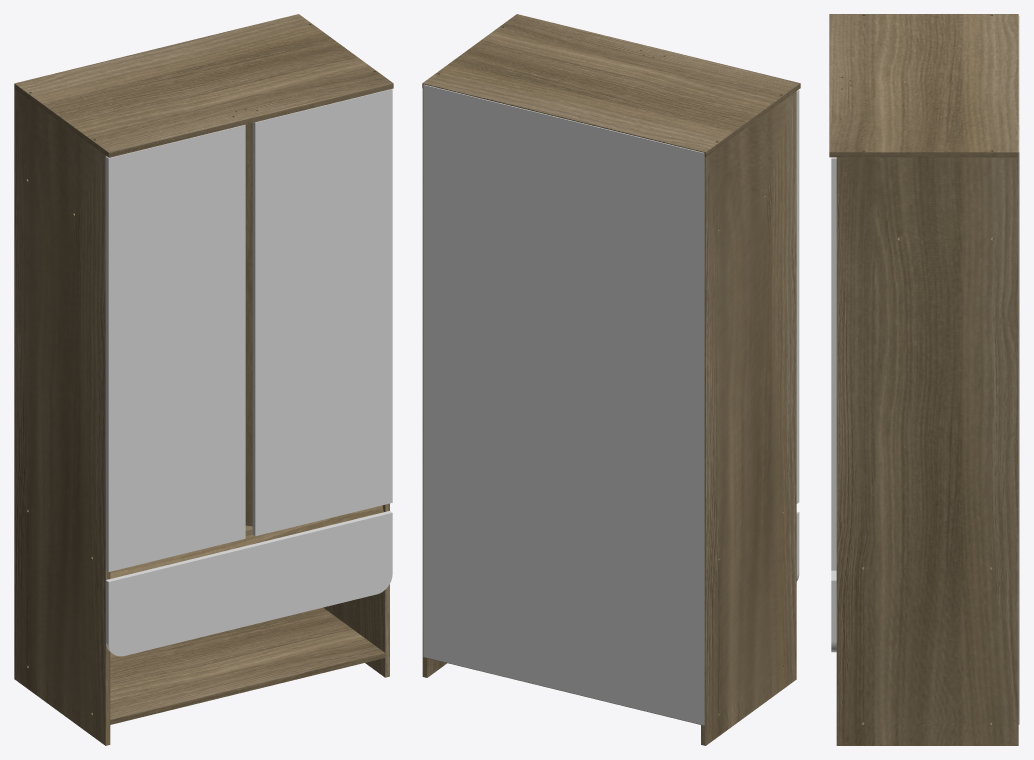
3 renders of one model, left to right at view 1: azimuth 30°, elevation 25°; view 2: azimuth 150°, elevation 25°; view 3: azimuth 270°, elevation 25°, orthographic.
Parts seen in each view (by area): view 1: A742270-COSTADOSCO; view 2: A742270-COSTADOSCO; view 3: A742270-COSTADOSCO.
Boxes of the visible parts, bbox=[...] form: A742270-COSTADOSCO: bbox=[14, 14, 393, 745]; A742270-COSTADOSCO: bbox=[422, 14, 800, 745]; A742270-COSTADOSCO: bbox=[829, 14, 1019, 745].
Size of the model in its own units: 9 by 18 by 5.23.
1 material, 1 textured.
